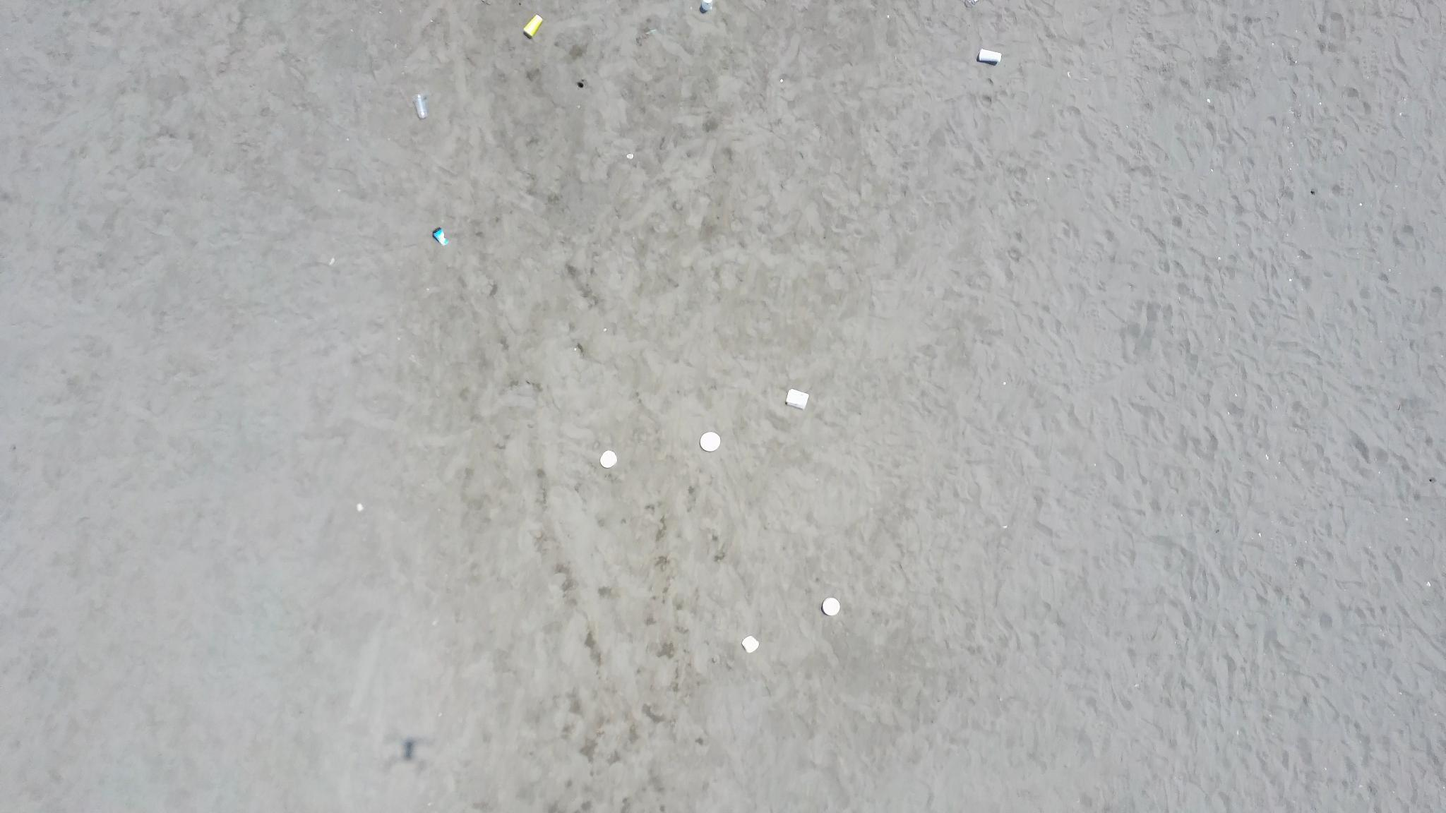Garbage: (523, 13, 542, 37), (700, 430, 720, 451), (787, 389, 807, 409), (413, 93, 426, 118), (979, 49, 1000, 64), (599, 449, 616, 467), (822, 597, 839, 615), (741, 635, 758, 652), (434, 227, 448, 245), (700, 0, 712, 12), (963, 0, 978, 6), (356, 502, 363, 511), (626, 153, 633, 158)
